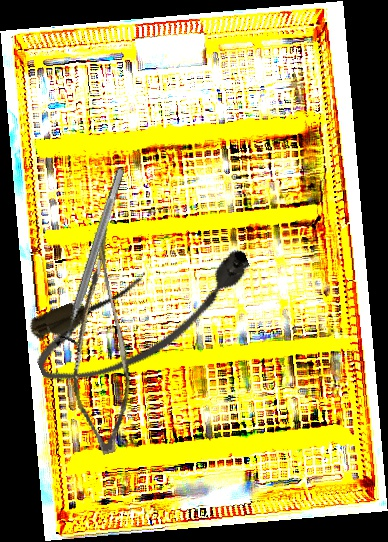Cannula: (21, 235, 268, 398)
Fixation Ring: (52, 164, 136, 353)
Micro Scissor: (40, 227, 157, 458)
